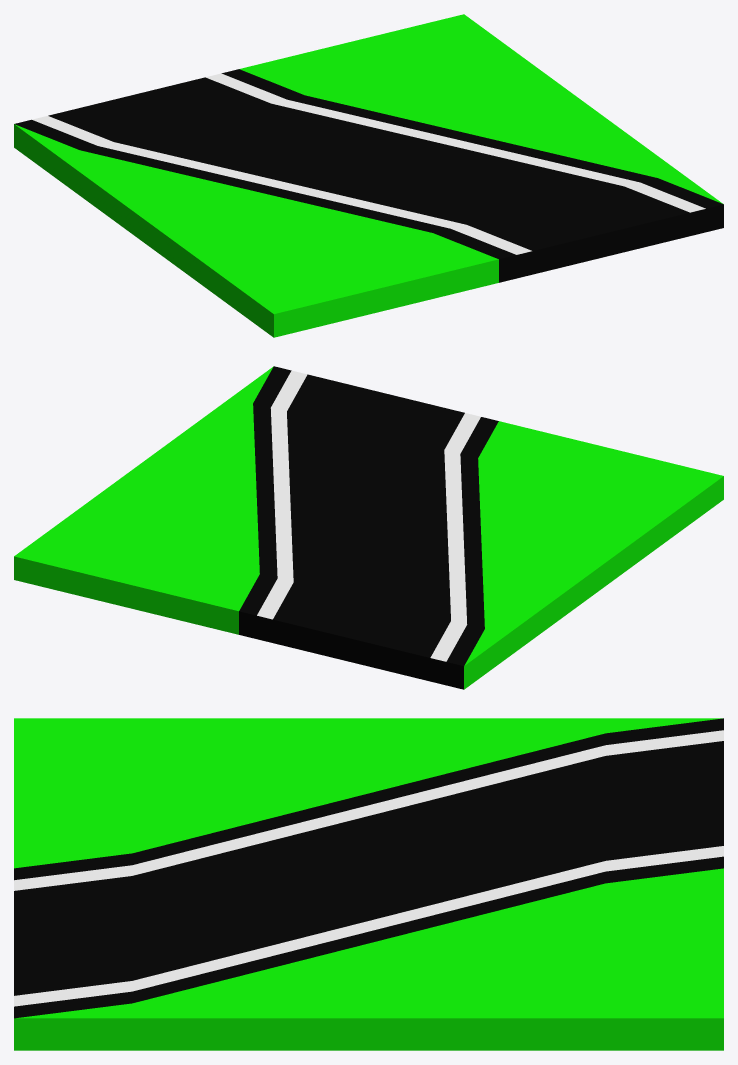
File: halfroad2_export.fbx
3 views of the same model, one above another, from view 1: azimuth 30°, elevation 25°; view 2: azimuth 150°, elevation 25°; view 3: azimuth 270°, elevation 25° (orthographic). The views are drawn at different scales.
Parts seen in each view (by area): view 1: Grass, Road; view 2: Grass, Road; view 3: Grass, Road.
Boxes of the visible parts, x1,y1,x2,y2 form: Grass: [14, 14, 722, 337]; Road: [14, 69, 723, 282]; Grass: [14, 366, 723, 689]; Road: [239, 366, 498, 689]; Grass: [14, 718, 723, 1050]; Road: [14, 718, 723, 1018].
Bounding box in the file's own units: 2000 × 100 × 2000.
